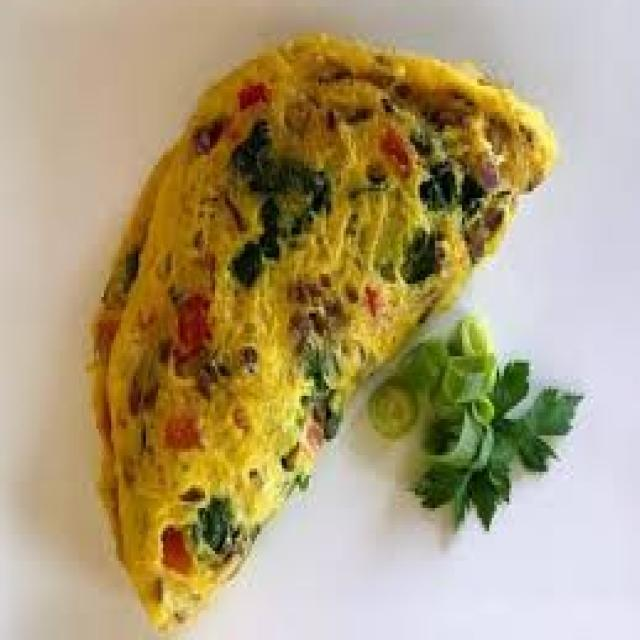telur_ayam_dadar: (84, 33, 556, 637)
